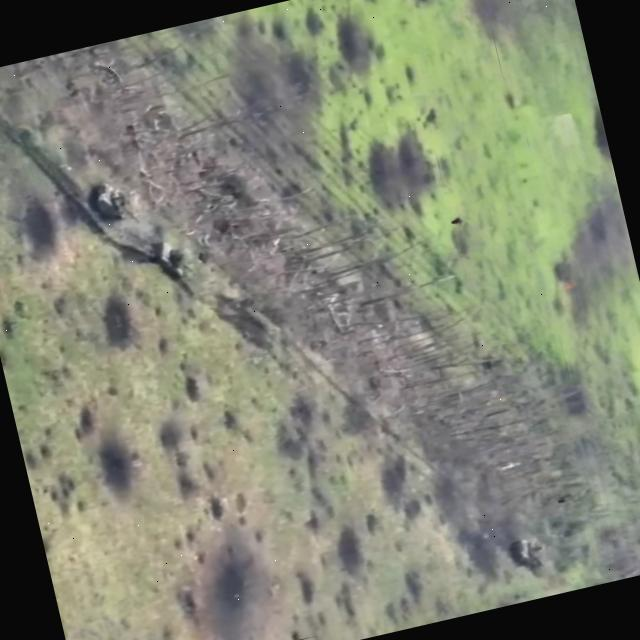AIFV: (509, 533, 549, 572)
MBT: (84, 176, 142, 234), (148, 231, 200, 285)
